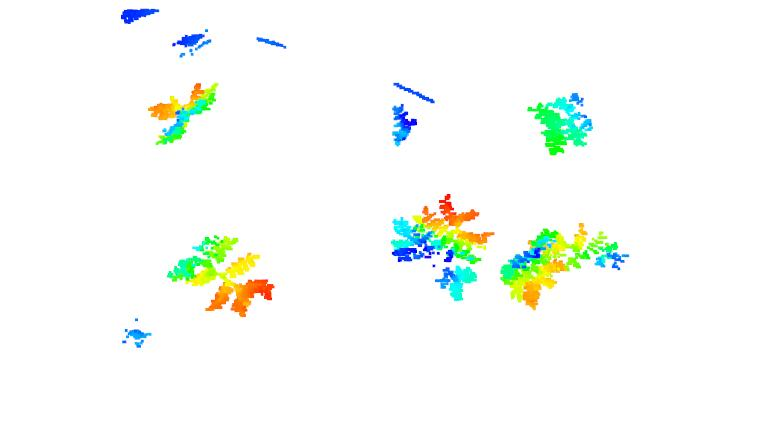chickpea: (389, 196, 493, 304), (165, 234, 278, 322), (495, 228, 564, 310), (144, 78, 218, 148), (525, 90, 597, 158), (540, 222, 625, 272), (387, 103, 423, 148)
